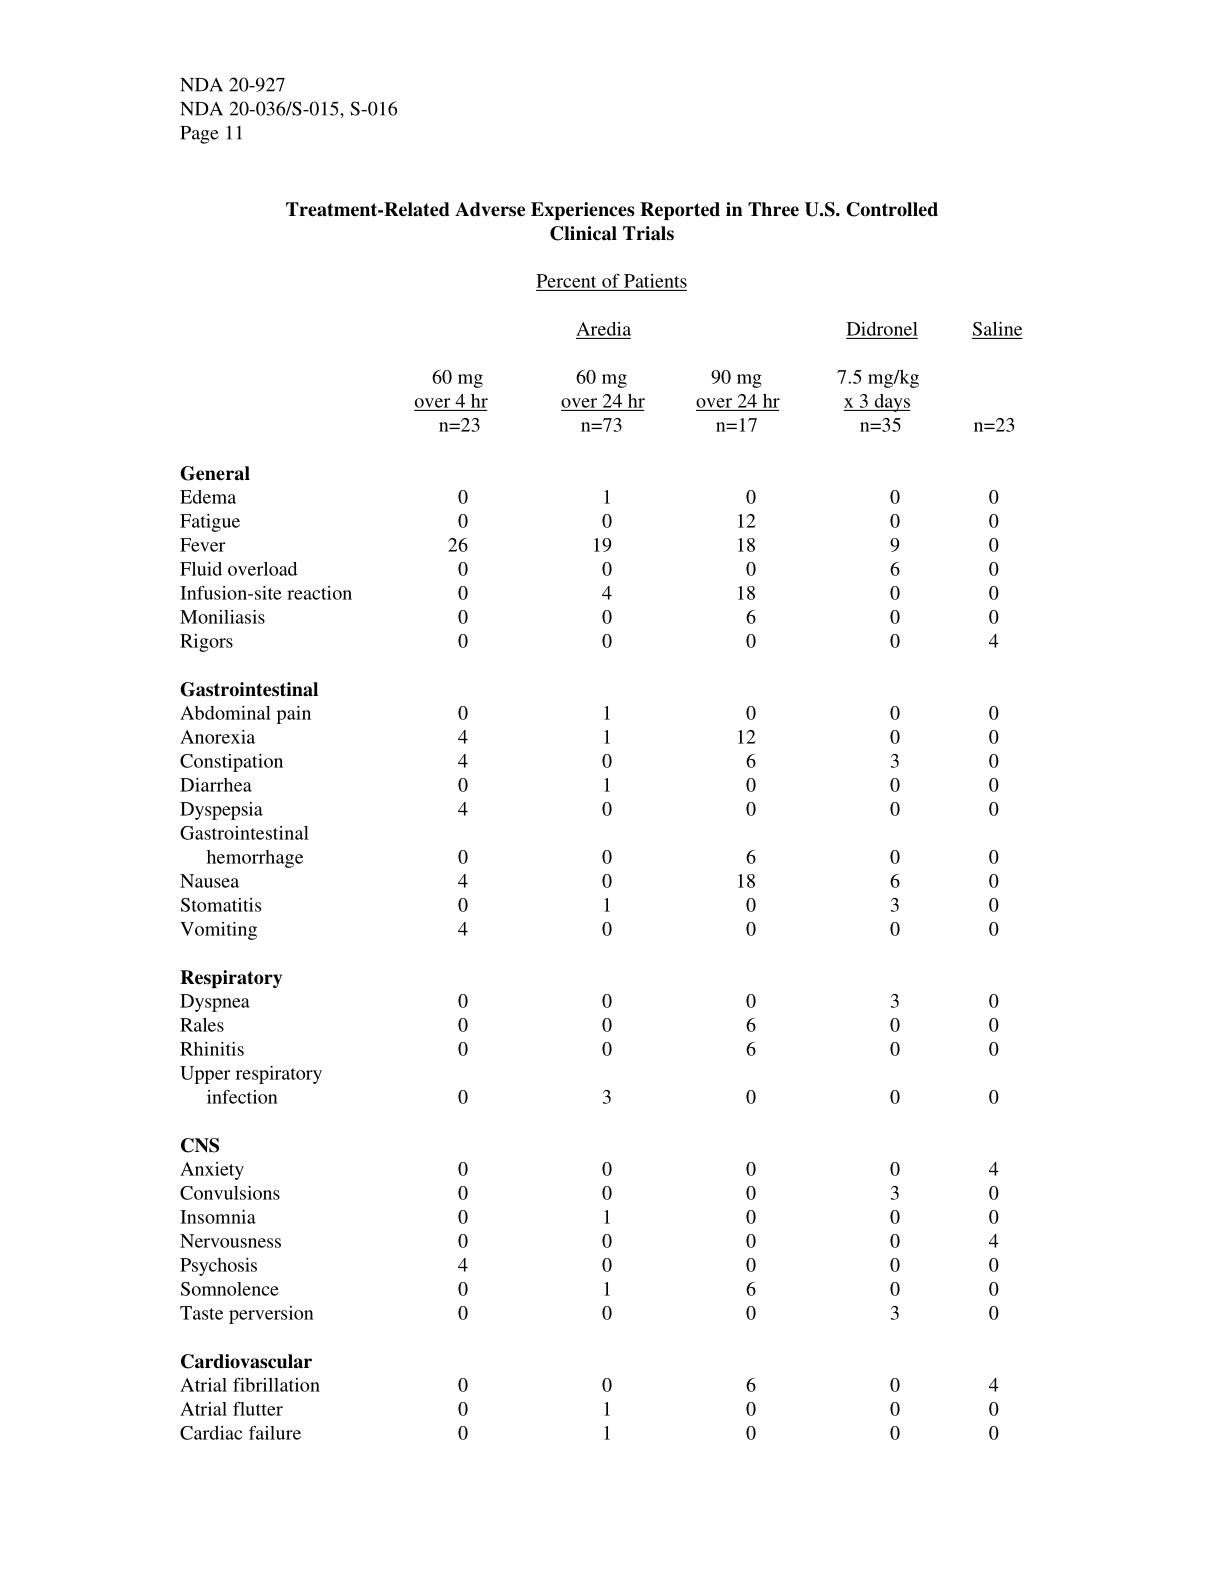nolines: (177, 316, 1029, 1443)
